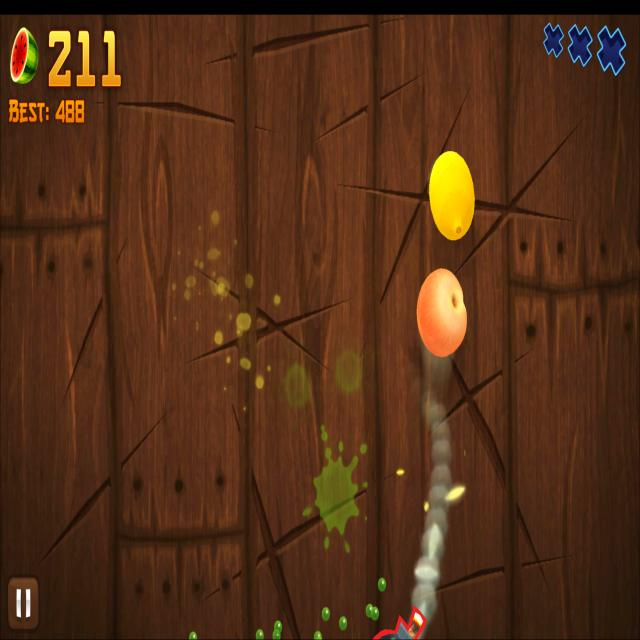bomb: (372, 603, 428, 640)
fruit: (416, 268, 468, 359), (429, 150, 476, 242)
